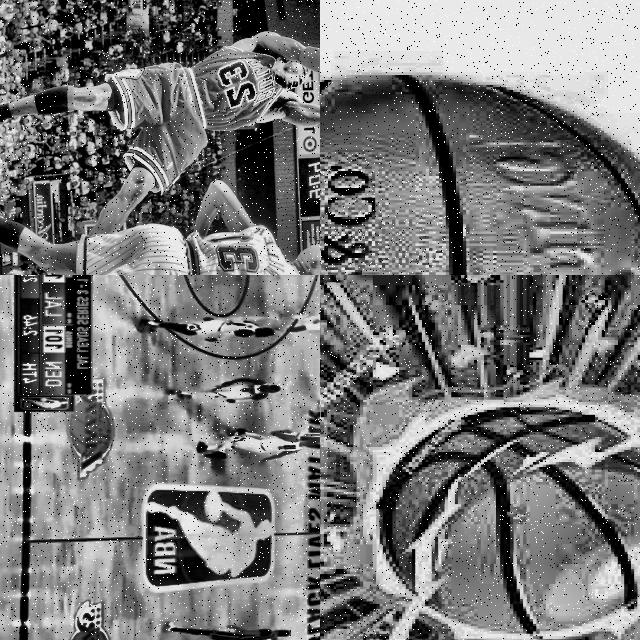Basketball: (320, 73, 640, 275)
